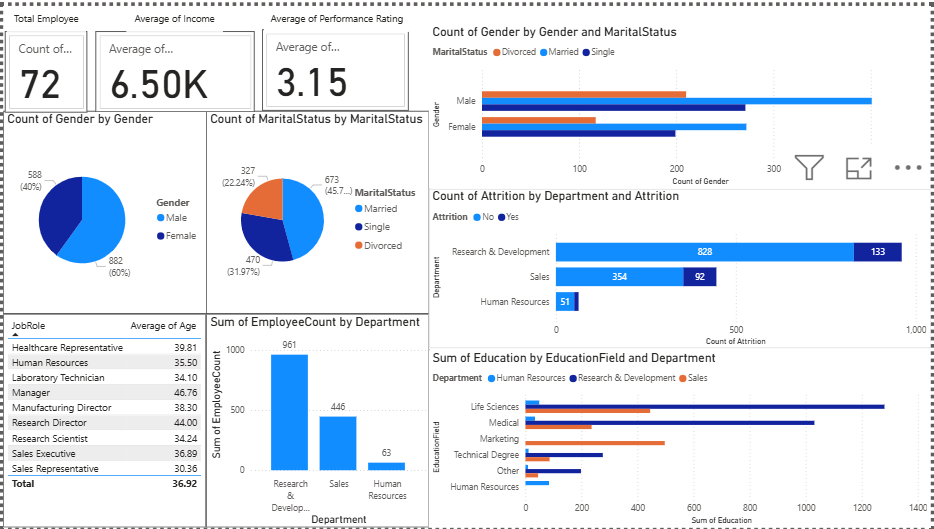

What the dashboard file says about the page in this screenshot:
{"tool":"powerbi","page":{"name":"Page 1","canvas":[1280,720],"ordinal":0},"visuals":[{"type":"pieChart","fields":{"Category":["HR Analytics Data (rev).Gender"],"Y":["CountNonNull(HR Analytics Data (rev).Gender)"]},"box":[0,145.5,281.6,279.7],"z":0},{"type":"pieChart","fields":{"Category":["HR Analytics Data (rev).MaritalStatus"],"Y":["CountNonNull(HR Analytics Data (rev).MaritalStatus)"]},"box":[279.7,145.5,308,279.7],"z":1000},{"type":"clusteredBarChart","fields":{"Category":["HR Analytics Data (rev).Gender"],"Y":["CountNonNull(HR Analytics Data (rev).Gender)"],"Series":["HR Analytics Data (rev).MaritalStatus"]},"box":[587.7,24.6,691.7,226.8],"z":2000},{"type":"tableEx","fields":{"Values":["HR Analytics Data (rev).JobRole","Avg(HR Analytics Data (rev).Age)"]},"box":[0,425.2,279.7,294.8],"z":3000},{"type":"columnChart","fields":{"Category":["HR Analytics Data (rev).Department"],"Y":["Sum(HR Analytics Data (rev).EmployeeCount)"]},"box":[279.7,425.2,308,294.8],"z":4000},{"type":"barChart","fields":{"Category":["HR Analytics Data (rev).Department"],"Series":["HR Analytics Data (rev).Attrition"],"Y":["CountNonNull(HR Analytics Data (rev).Attrition)"]},"box":[587.7,251.3,691.7,221.1],"z":5000},{"type":"clusteredBarChart","fields":{"Category":["HR Analytics Data (rev).EducationField"],"Y":["Sum(HR Analytics Data (rev).Education)"],"Series":["HR Analytics Data (rev).Department"]},"box":[587.5,475,692.5,245],"z":6000},{"type":"cardVisual","title":"Number of Employee","fields":{"Data":["CountNonNull(data csv promomtion.Emplyee name)"]},"box":[3.3,35,113.3,111.7],"z":6001},{"type":"cardVisual","fields":{"Data":["Avg(HR Analytics Data (rev).MonthlyIncome)"]},"box":[128,35,219,111],"z":6002},{"type":"cardVisual","fields":{"Data":["Avg(HR Analytics Data (rev).PerformanceRating)"]},"box":[358.3,33.3,201.7,111.7],"z":6003},{"type":"textbox","box":[171,2,133,33],"z":6004},{"type":"textbox","box":[4,2,109,33],"z":6005},{"type":"textbox","box":[359,2,201,33],"z":6006}]}

Visuals, with their boxes in screenshot pixels (x1, y1, x2, y2), scaled from the page's 1280x720 canvas onto the 934x529 screenshot:
pieChart - HR Analytics Data (rev).Gender x CountNonNull(HR Analytics Data (rev).Gender): (left=0, top=107, right=205, bottom=312)
pieChart - HR Analytics Data (rev).MaritalStatus x CountNonNull(HR Analytics Data (rev).MaritalStatus): (left=204, top=107, right=429, bottom=312)
clusteredBarChart - HR Analytics Data (rev).Gender x CountNonNull(HR Analytics Data (rev).Gender): (left=429, top=18, right=933, bottom=185)
tableEx - HR Analytics Data (rev).JobRole x Avg(HR Analytics Data (rev).Age): (left=0, top=312, right=204, bottom=528)
columnChart - HR Analytics Data (rev).Department x Sum(HR Analytics Data (rev).EmployeeCount): (left=204, top=312, right=429, bottom=528)
barChart - HR Analytics Data (rev).Department x HR Analytics Data (rev).Attrition: (left=429, top=185, right=933, bottom=347)
clusteredBarChart - HR Analytics Data (rev).EducationField x Sum(HR Analytics Data (rev).Education): (left=429, top=349, right=933, bottom=528)
"Number of Employee" cardVisual: (left=2, top=26, right=85, bottom=108)
cardVisual - Avg(HR Analytics Data (rev).MonthlyIncome): (left=93, top=26, right=253, bottom=107)
cardVisual - Avg(HR Analytics Data (rev).PerformanceRating): (left=261, top=24, right=409, bottom=107)
textbox: (left=125, top=1, right=222, bottom=26)
textbox: (left=3, top=1, right=82, bottom=26)
textbox: (left=262, top=1, right=409, bottom=26)
